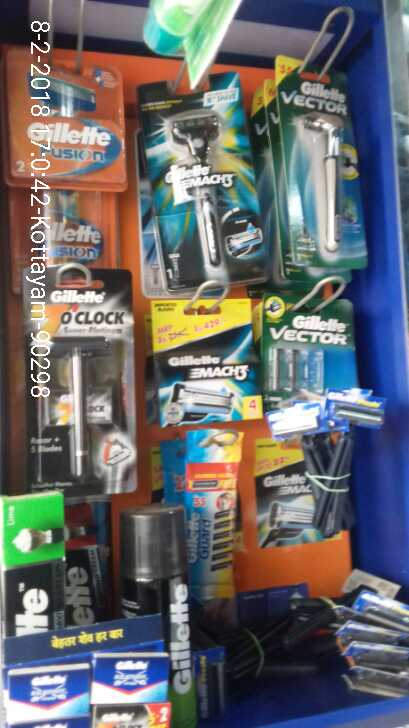gillette: (133, 79, 271, 285), (27, 261, 144, 491), (270, 50, 376, 280), (152, 297, 252, 422), (173, 423, 242, 596), (262, 284, 361, 396), (249, 433, 313, 546)
